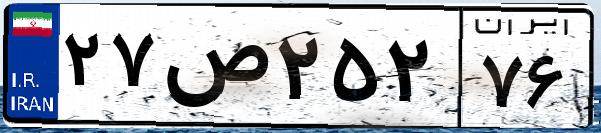2: (270, 28, 330, 110), (385, 28, 445, 110), (57, 26, 110, 100)
5: (330, 28, 385, 110)
6: (525, 38, 570, 115)
7: (475, 38, 525, 113), (110, 28, 158, 98)
ص: (158, 20, 270, 120)
